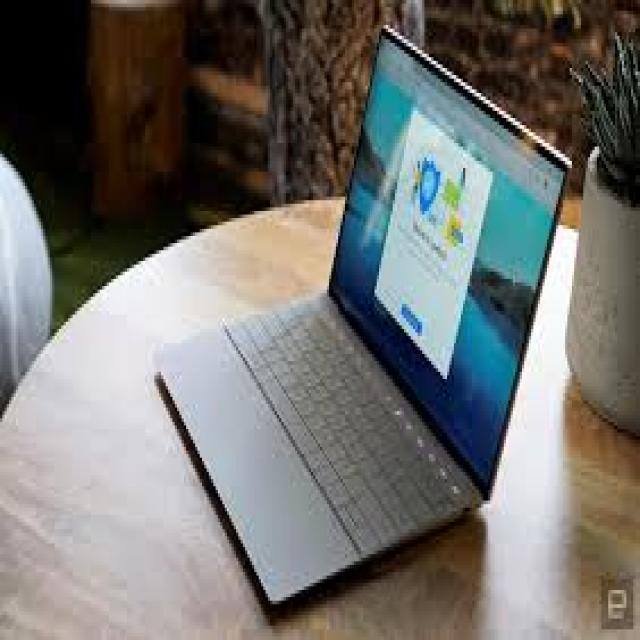others: (138, 14, 579, 615)
